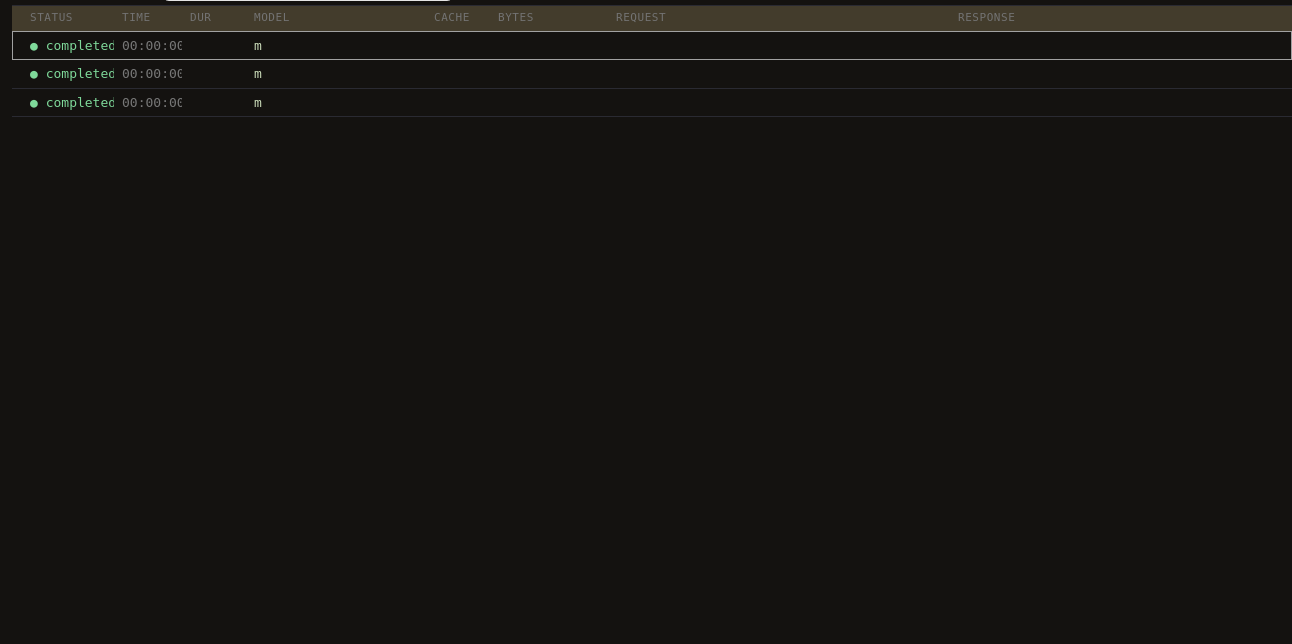
Test: RequestsListShadcn · detail entry (form A) + ?at positioning + keyboard nav › row click navigates to the full-page detail /requests/:id (form A)
Click the 2nd button "● completed 00:00:00 m": (73, 74) x1=12 y1=60 x2=1291 y2=88
(page scrolled)
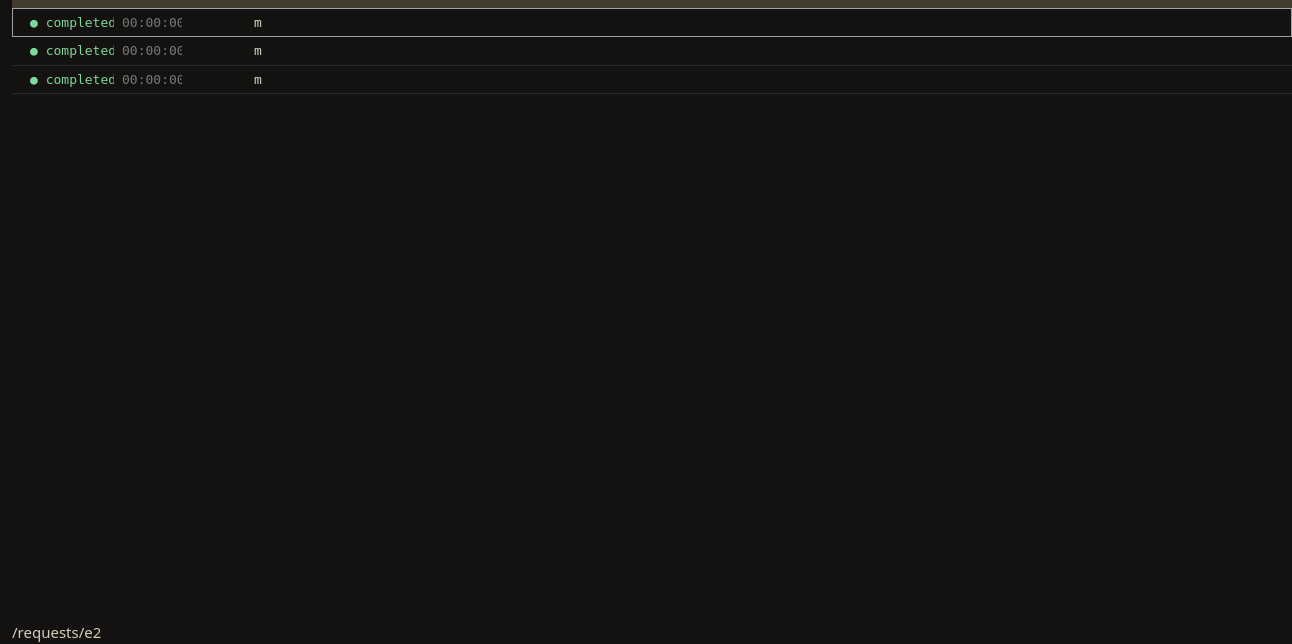
Expected: the text with test id "loc" reads "/requests/e2", x1=12 y1=622 x2=101 y2=642
